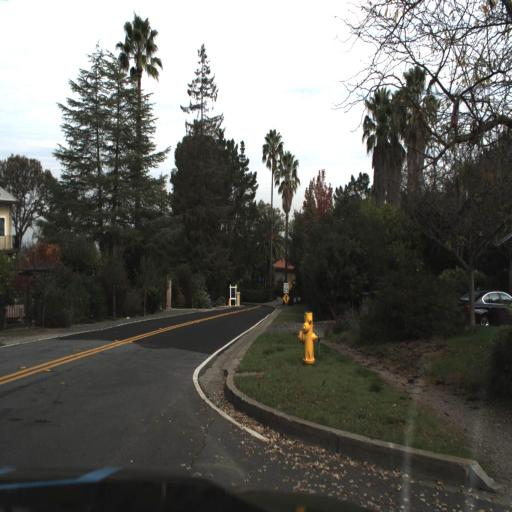car: (453, 287, 512, 331)
